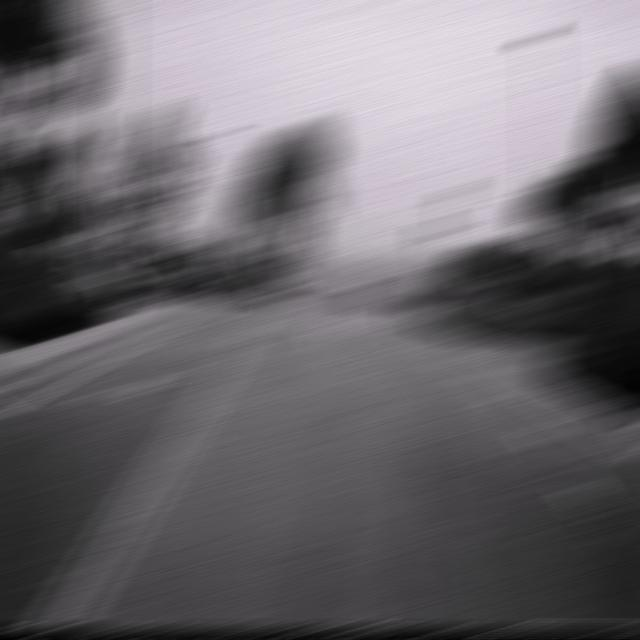stop_sign: (418, 217, 450, 242)
